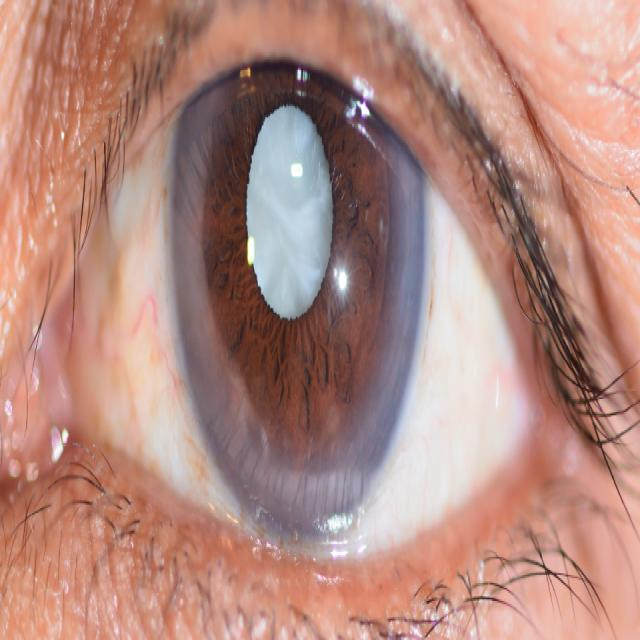Cataract: (165, 42, 428, 523)
